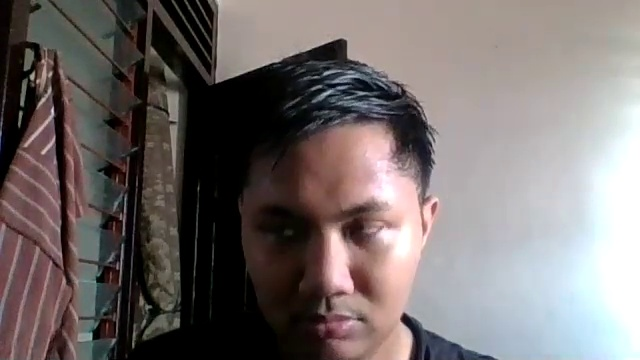Not Distracted: (230, 95, 434, 354)
